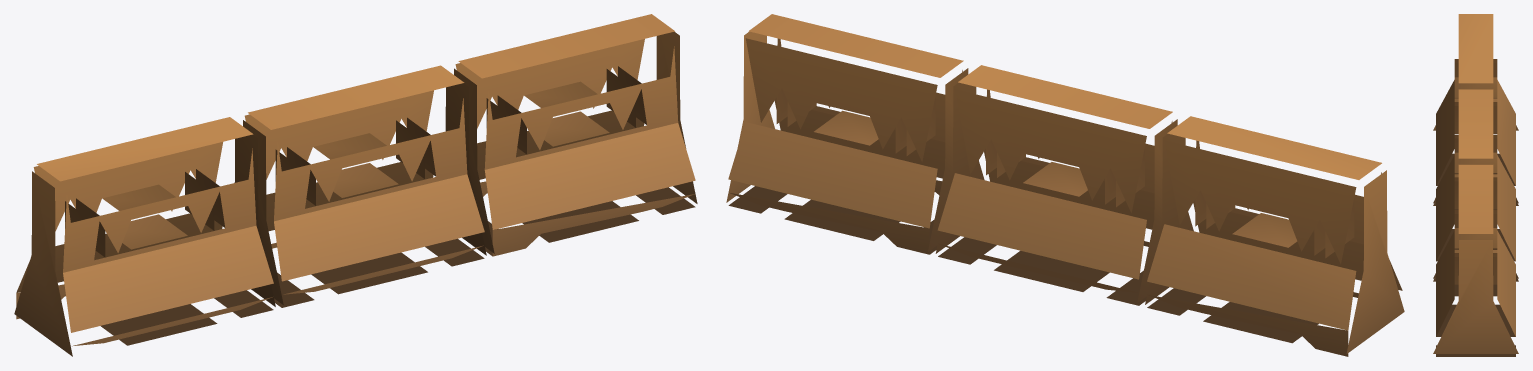
The model's file is barrier.lod.glb.
The picture shows the model from 3 angles, left to right: view 1: azimuth 30°, elevation 25°; view 2: azimuth 150°, elevation 25°; view 3: azimuth 270°, elevation 25°; orthographic projection. The views are drawn at different scales.
Visible parts, largest first — view 1: barrier.001; view 2: barrier.001; view 3: barrier.001.
Part boxes in pixels (box(x1,y1,x2,y2)): barrier.001: box(14, 14, 697, 356); barrier.001: box(726, 14, 1404, 356); barrier.001: box(1433, 14, 1518, 356).
Size of the model in its own units: 3.95 by 1 by 0.6423.
